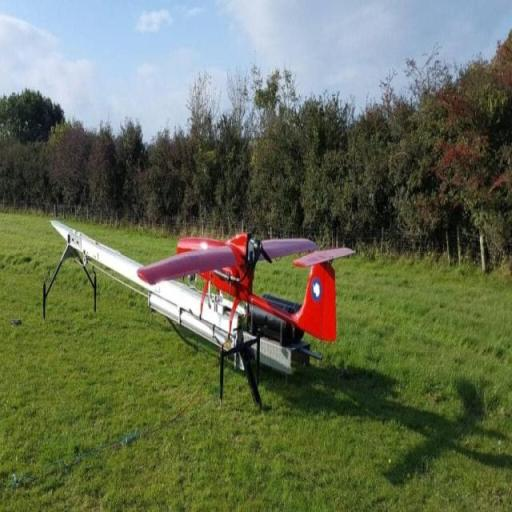uav: (139, 216, 364, 345)
